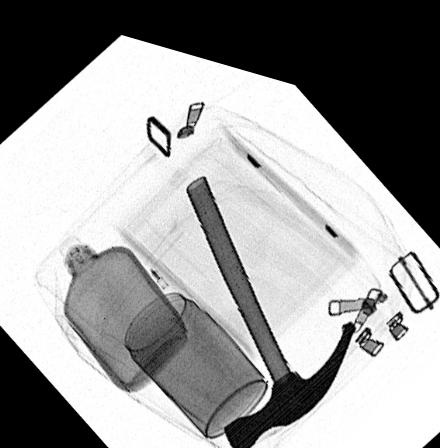Hammer: (184, 163, 357, 443)
